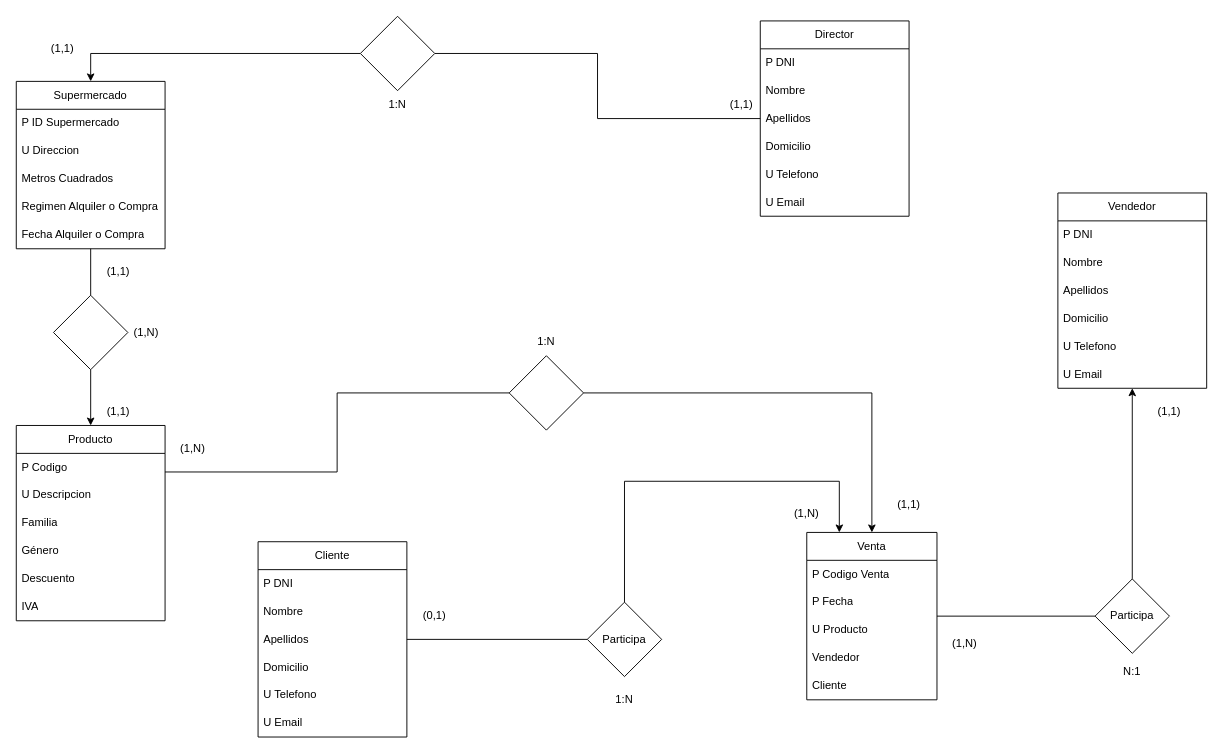
This 1223x753 diagram has some shape labels left out. Here are the shapes that lost their labels. From the top down, the centre of each, then its label:
At point (397, 53): "Dirige".
At point (90, 332): "Vende".
At point (546, 392): "Vender".
